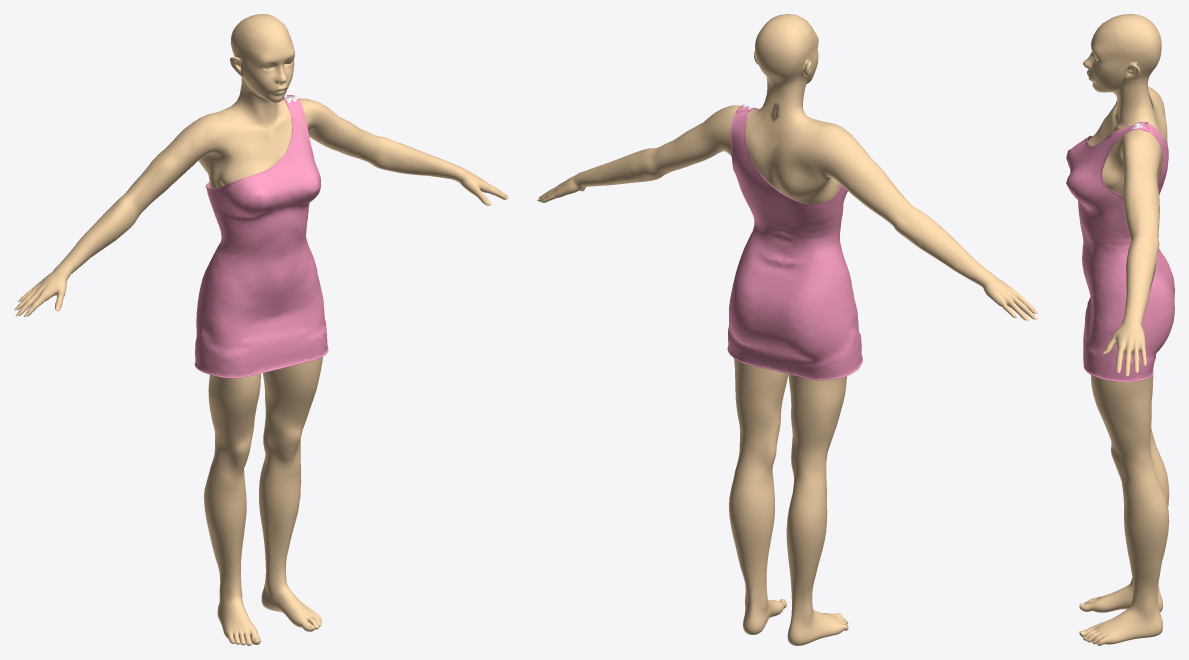
Rendered from dress1.glb.
3 views of the same model, side by side, from view 1: azimuth 30°, elevation 25°; view 2: azimuth 150°, elevation 25°; view 3: azimuth 270°, elevation 25° (orthographic).
Parts seen in each view (by area): view 1: Body, WhiteDress; view 2: Body, WhiteDress; view 3: Body, WhiteDress.
Part boxes in pixels (x1=…): Body: x1=17, y1=14, x2=507, y2=645; WhiteDress: x1=194, y1=95, x2=328, y2=378; Body: x1=538, y1=14, x2=1035, y2=645; WhiteDress: x1=727, y1=104, x2=862, y2=380; Body: x1=1079, y1=14, x2=1169, y2=645; WhiteDress: x1=1066, y1=122, x2=1174, y2=381.
Size of the model in its own units: 1.58 by 1.85 by 0.3.
